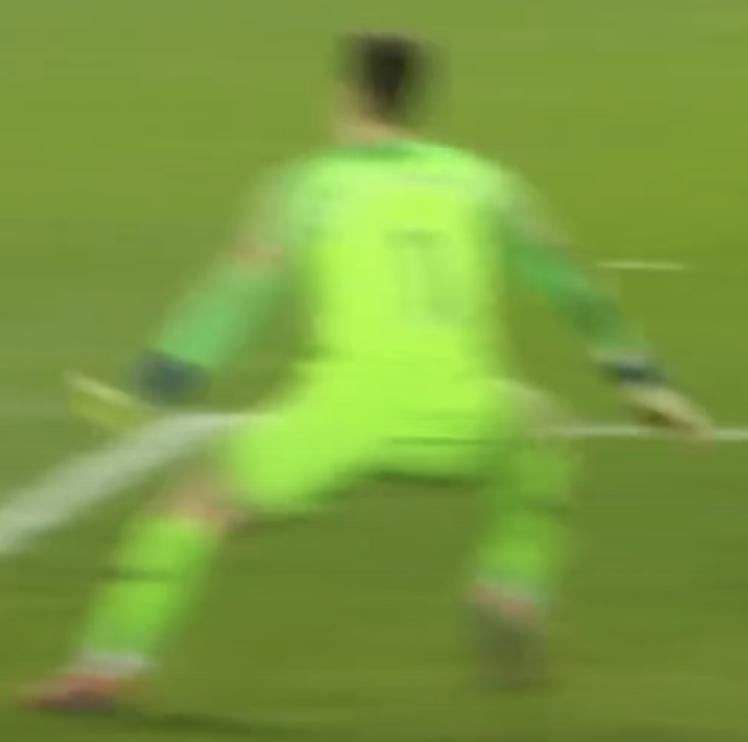goalkeeper: (15, 14, 748, 742)
